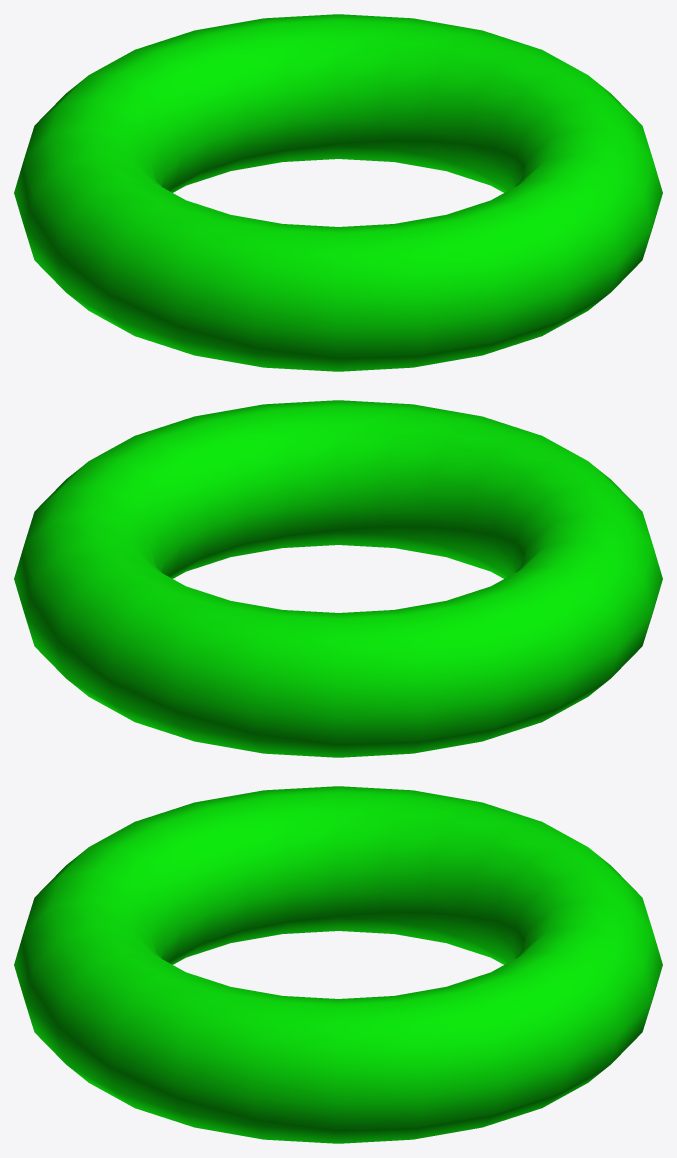
The picture shows the model from 3 angles, top to bottom: view 1: azimuth 30°, elevation 25°; view 2: azimuth 150°, elevation 25°; view 3: azimuth 270°, elevation 25°; orthographic projection.
Parts seen in each view (by area): view 1: SM_Torus1; view 2: SM_Torus1; view 3: SM_Torus1.
Boxes of the visible parts, bbox=[...] form: SM_Torus1: bbox=[14, 14, 662, 371]; SM_Torus1: bbox=[14, 400, 662, 757]; SM_Torus1: bbox=[14, 786, 662, 1143].
Bounding box in the file's own units: 16.07 × 3.6 × 16.07.
